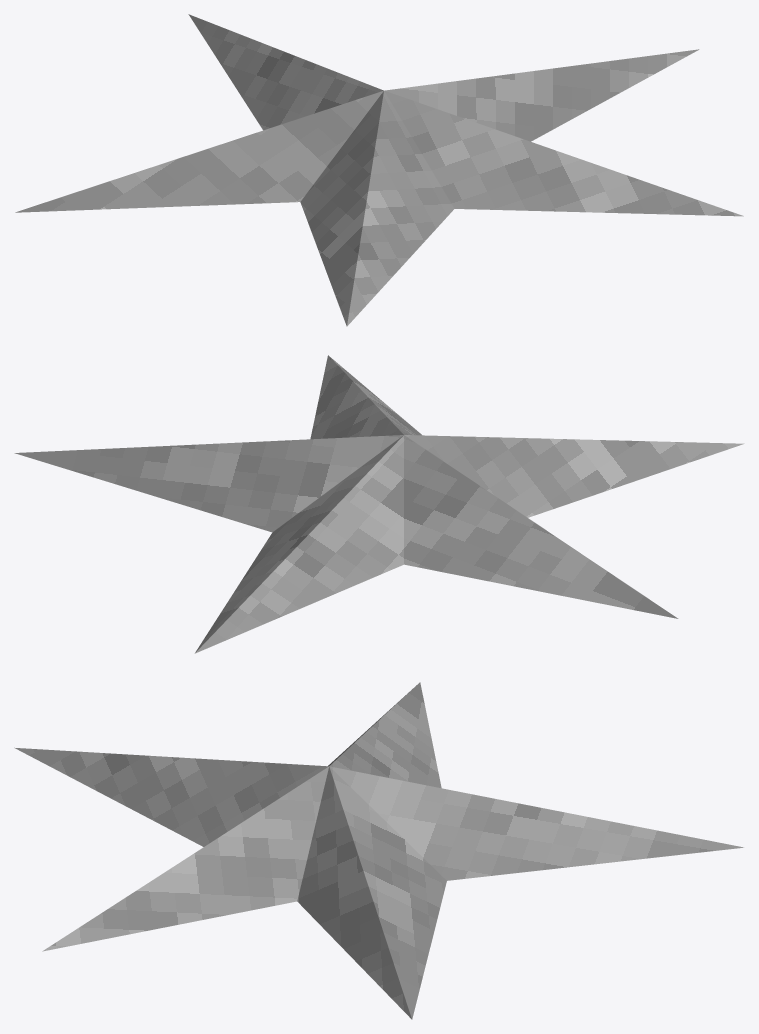
The model's file is Starfish.glb.
3 views of the same model, one above another, from view 1: azimuth 30°, elevation 25°; view 2: azimuth 150°, elevation 25°; view 3: azimuth 270°, elevation 25° (orthographic). The views are drawn at different scales.
Visible parts, largest first — view 1: Starfish; view 2: Starfish; view 3: Starfish.
Boxes of the visible parts, x1,y1,x2,y2 form: Starfish: [15, 14, 743, 326]; Starfish: [14, 355, 744, 653]; Starfish: [14, 682, 743, 1019].
Size of the model in its own units: 0.5362 by 0.0568 by 0.4902.
Materials: 1 (1 with a texture image).
